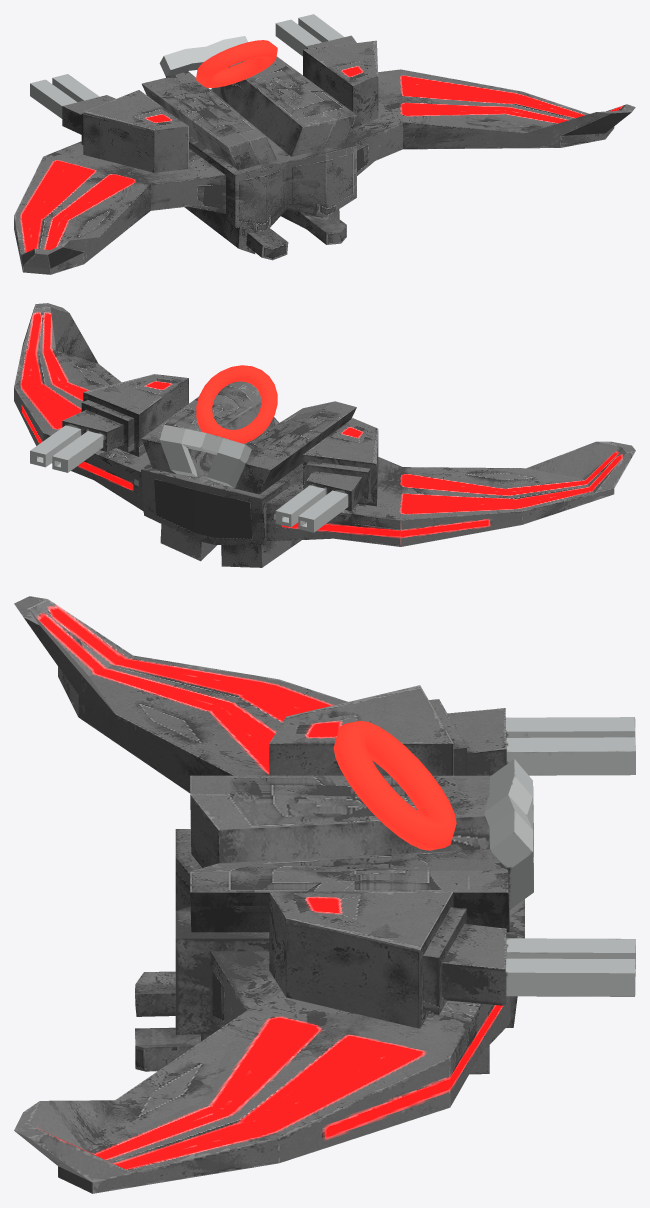
Rendered from Drone_Rond.fbx.
3 views of the same model, one above another, from view 1: azimuth 30°, elevation 25°; view 2: azimuth 150°, elevation 25°; view 3: azimuth 270°, elevation 25° (orthographic). The views are drawn at different scales.
Visible parts, largest first — view 1: DroneRond; view 2: DroneRond; view 3: DroneRond.
Boxes of the visible parts, box(x1,y1,x2,y2) form: DroneRond: box(14, 14, 635, 274); DroneRond: box(14, 303, 635, 567); DroneRond: box(14, 596, 635, 1193).
Size of the model in its own units: 987 by 273 by 479.
Materials: 2 (1 with a texture image).
